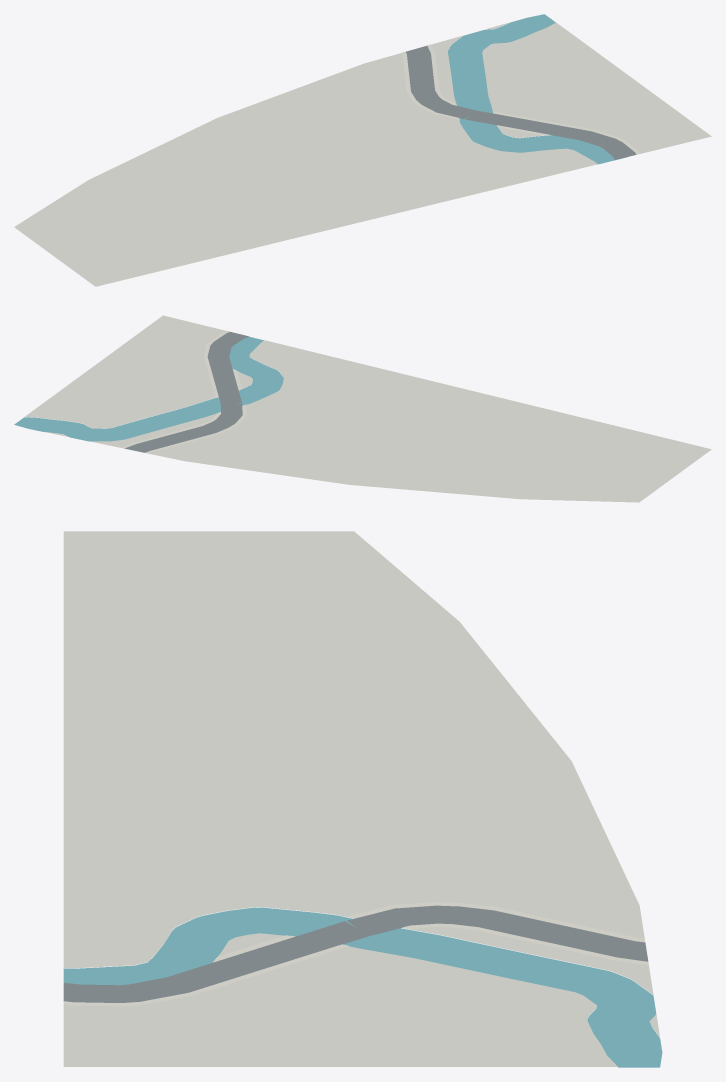
3 renders of one model, top to bottom at view 1: azimuth 30°, elevation 25°; view 2: azimuth 150°, elevation 25°; view 3: azimuth 270°, elevation 25°, orthographic. The views are drawn at different scales.
Parts seen in each view (by area): view 1: city; view 2: city; view 3: city.
Boxes of the visible parts, x1=… form: city: x1=14, y1=14, x2=711, y2=286; city: x1=14, y1=315, x2=711, y2=502; city: x1=63, y1=531, x2=662, y2=1067.
Bounding box in the file's own units: 500 × 0.4 × 236.
